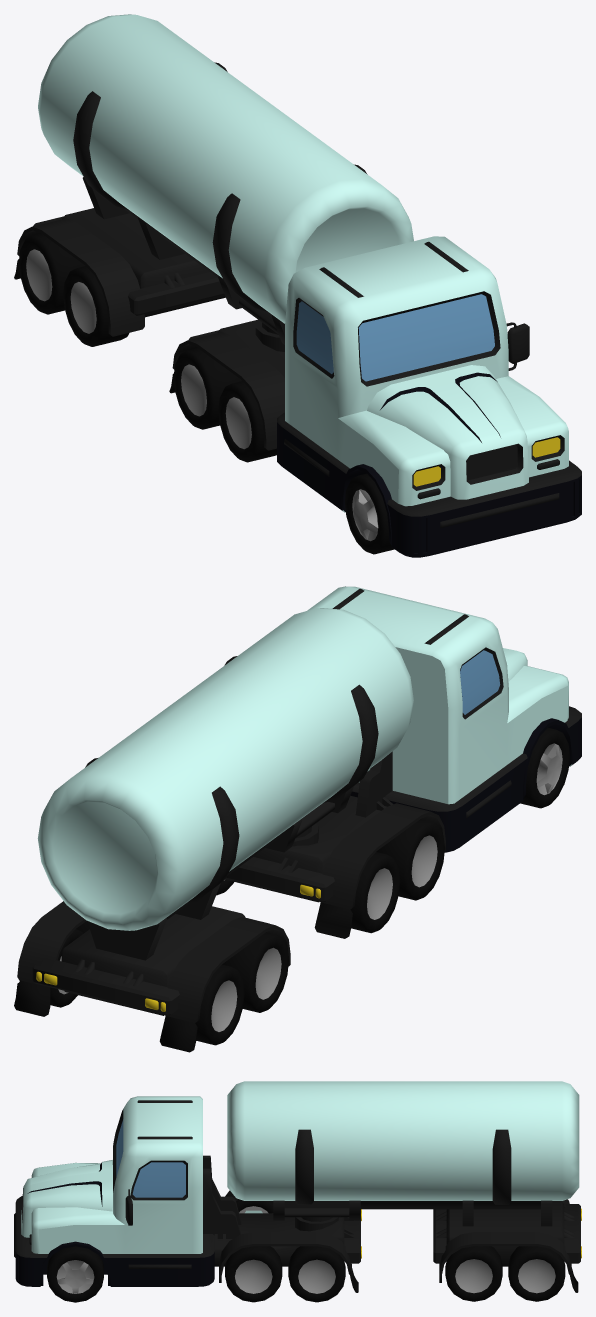
The model's file is Car_D.fbx.
3 renders of one model, top to bottom at view 1: azimuth 30°, elevation 25°; view 2: azimuth 150°, elevation 25°; view 3: azimuth 270°, elevation 25°, orthographic. The views are drawn at different scales.
Visible parts, largest first — view 1: Car_D, Car_D_Addon, Car_D_Wheel_R_R, Car_D_Addon_Wheel_R_R, Car_D_Wheel_M_R, Car_D_Addon_Wheel_F_R, Car_D_Wheel_F_R; view 2: Car_D_Addon, Car_D, Car_D_Wheel_M_R, Car_D_Addon_Wheel_F_R, Car_D_Wheel_R_R, Car_D_Addon_Wheel_R_R, Car_D_Wheel_F_R, Car_D_Addon_Wheel_R_L; view 3: Car_D_Addon, Car_D, Car_D_Wheel_R_L, Car_D_Wheel_M_L, Car_D_Addon_Wheel_F_L, Car_D_Addon_Wheel_R_L, Car_D_Wheel_F_L, Car_D_Wheel_M_R.
Part boxes in pixels (left/top/right/bottom): Car_D: left=169, top=236, right=581, bottom=557; Car_D_Addon: left=14, top=14, right=413, bottom=344; Car_D_Wheel_R_R: left=173, top=348, right=241, bottom=429; Car_D_Addon_Wheel_R_R: left=18, top=233, right=85, bottom=314; Car_D_Wheel_M_R: left=218, top=381, right=276, bottom=462; Car_D_Addon_Wheel_F_R: left=63, top=266, right=129, bottom=346; Car_D_Wheel_F_R: left=345, top=473, right=394, bottom=554; Car_D_Addon: left=14, top=608, right=413, bottom=1052; Car_D: left=225, top=586, right=581, bottom=938; Car_D_Wheel_M_R: left=376, top=819, right=444, bottom=900; Car_D_Addon_Wheel_F_R: left=222, top=932, right=288, bottom=1012; Car_D_Wheel_R_R: left=350, top=852, right=400, bottom=933; Car_D_Addon_Wheel_R_R: left=195, top=964, right=244, bottom=1045; Car_D_Wheel_F_R: left=520, top=727, right=569, bottom=808; Car_D_Addon_Wheel_R_L: left=19, top=929, right=83, bottom=1007; Car_D_Addon: left=227, top=1081, right=581, bottom=1292; Car_D: left=14, top=1096, right=361, bottom=1292; Car_D_Wheel_R_L: left=288, top=1246, right=345, bottom=1302; Car_D_Wheel_M_L: left=225, top=1246, right=282, bottom=1302; Car_D_Addon_Wheel_F_L: left=445, top=1246, right=502, bottom=1301; Car_D_Addon_Wheel_R_L: left=508, top=1246, right=565, bottom=1301; Car_D_Wheel_F_L: left=47, top=1246, right=103, bottom=1302; Car_D_Wheel_M_R: left=236, top=1199, right=273, bottom=1213.
Bounding box in the file's own units: 59.73 × 71.89 × 201.
